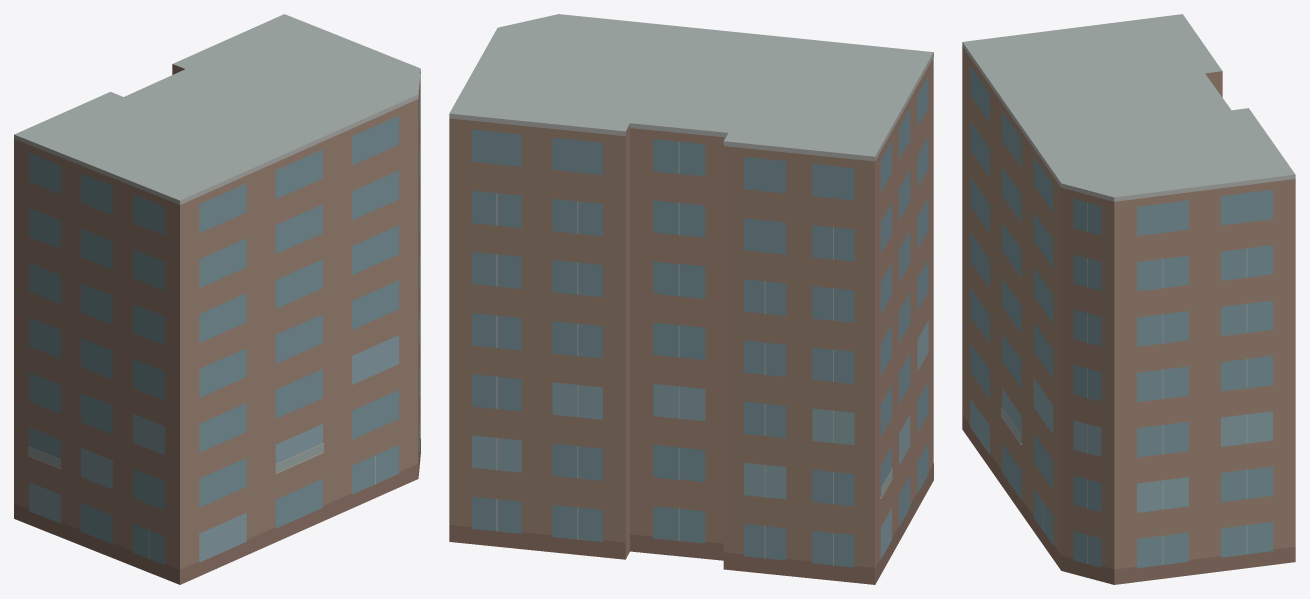
Rendered from survey-upis-32974324.glb.
The picture shows the model from 3 angles, left to right: view 1: azimuth 30°, elevation 25°; view 2: azimuth 150°, elevation 25°; view 3: azimuth 270°, elevation 25°; orthographic projection. The views are drawn at different scales.
Visible parts, largest first — view 1: survey-upis-32974324.tmp; view 2: survey-upis-32974324.tmp; view 3: survey-upis-32974324.tmp.
Part boxes in pixels (<box>): survey-upis-32974324.tmp: <box>14,14,420,584</box>; survey-upis-32974324.tmp: <box>449,14,933,584</box>; survey-upis-32974324.tmp: <box>962,14,1295,584</box>.
Size of the model in its own units: 22.04 by 21.7 by 16.92.
